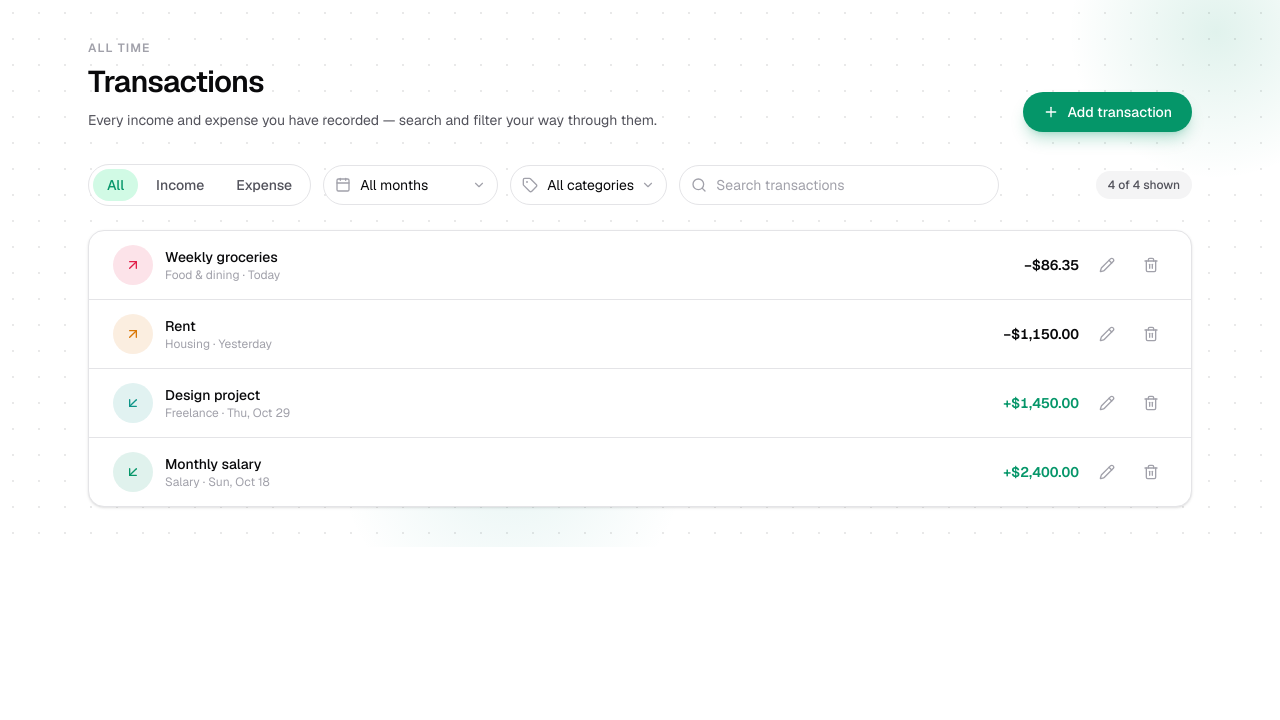
Test: TransactionsView › keeps the edit form open and explains the failure when the update fails
Step 1. Click the button named "Edit Rent" → (1107, 334), box [1091,318,1123,350]
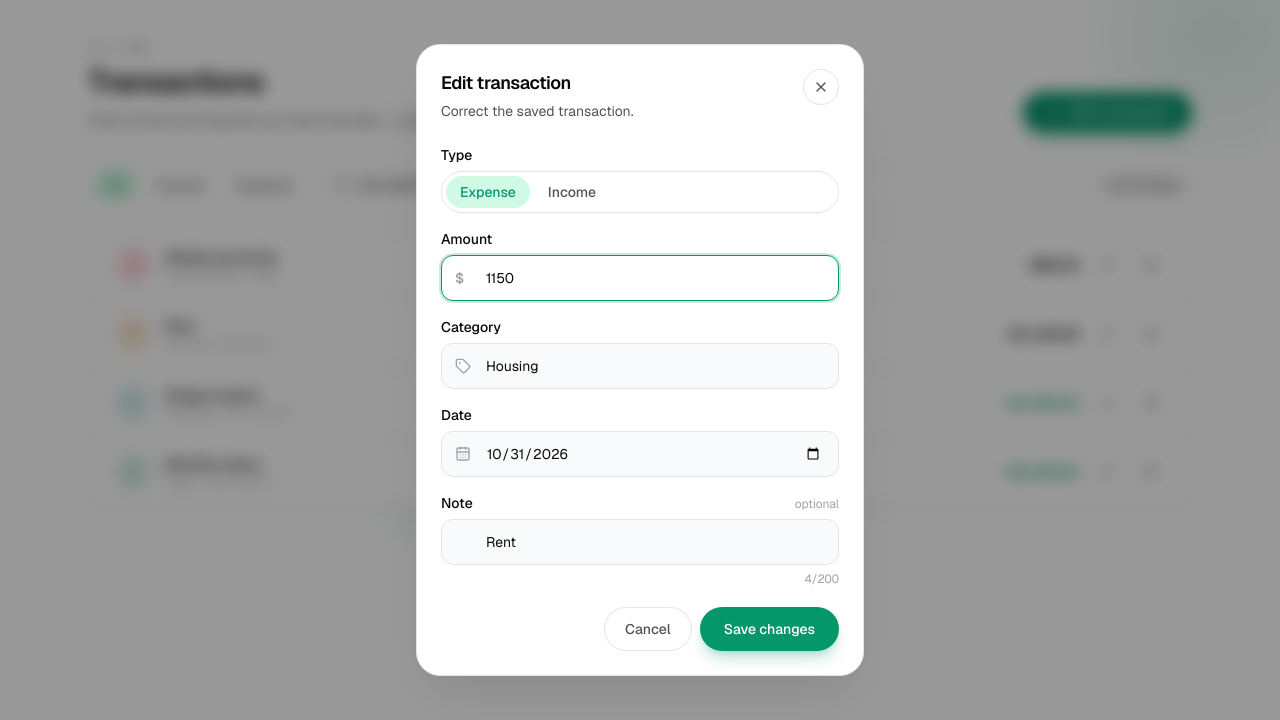
Step 2. Click the button "Save changes" → (769, 629), box [700,607,839,651]
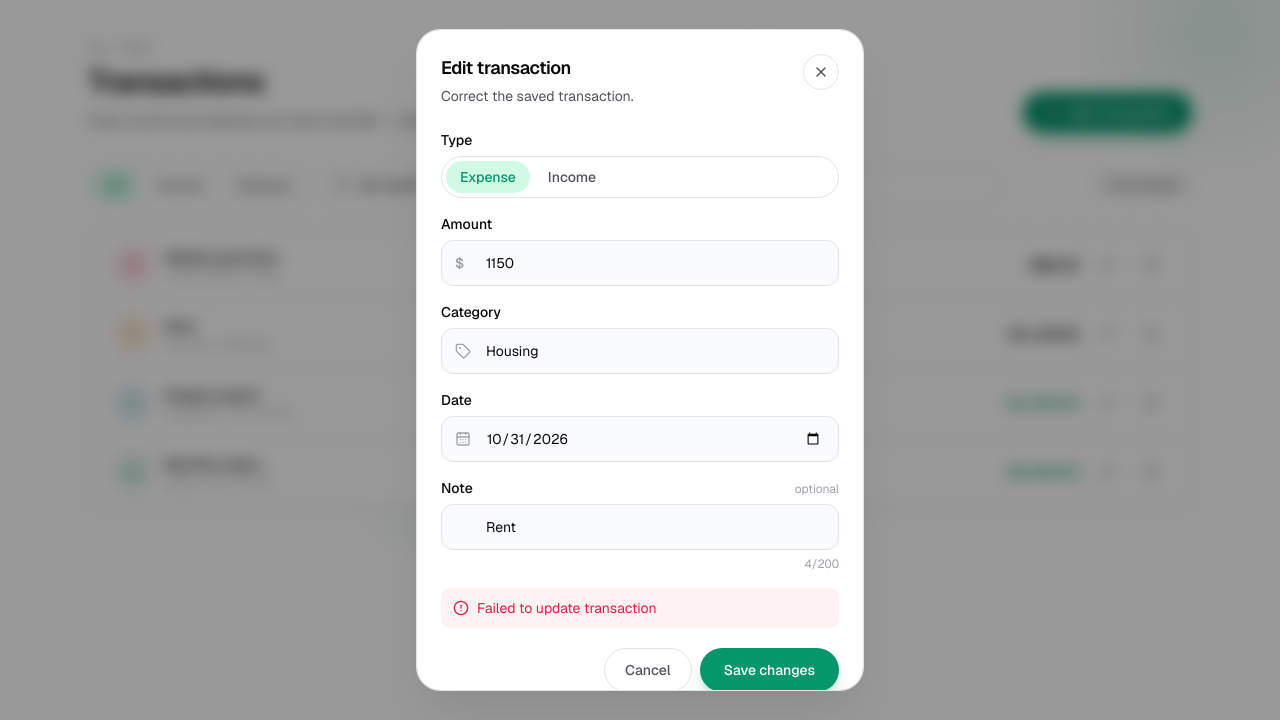
Result: the dialog "Edit transaction" is shown at [416,29,864,691]
Result: the text "Failed to update transaction" is shown at [441,588,839,628]
